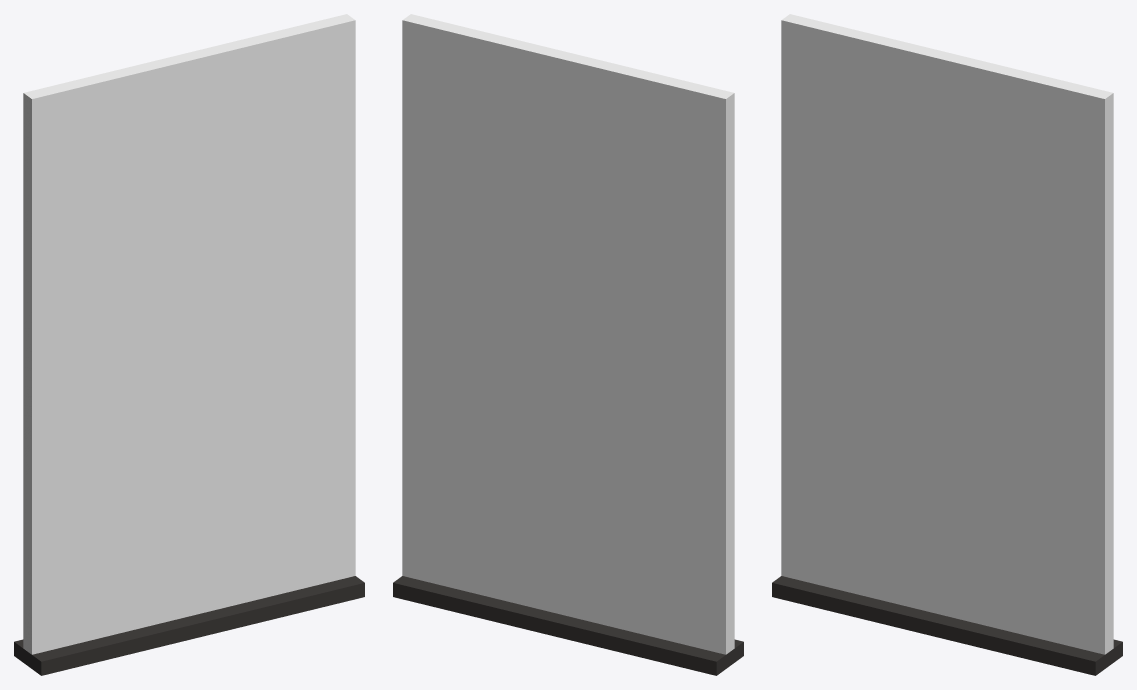
The model's file is 17_wall.FBX.
3 views of the same model, side by side, from view 1: azimuth 30°, elevation 25°; view 2: azimuth 150°, elevation 25°; view 3: azimuth 330°, elevation 25° (orthographic).
Parts seen in each view (by area): view 1: 17_wall(white); view 2: 17_wall(white); view 3: 17_wall(white).
Part boxes in pixels (bbox=[...]): 17_wall(white): bbox=[14, 14, 364, 675]; 17_wall(white): bbox=[393, 14, 743, 675]; 17_wall(white): bbox=[772, 14, 1122, 675].
Bounding box in the file's own units: 256 × 432 × 37.56.
